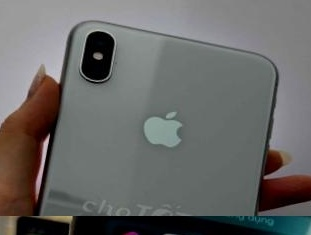scratch: (109, 56, 124, 72)
